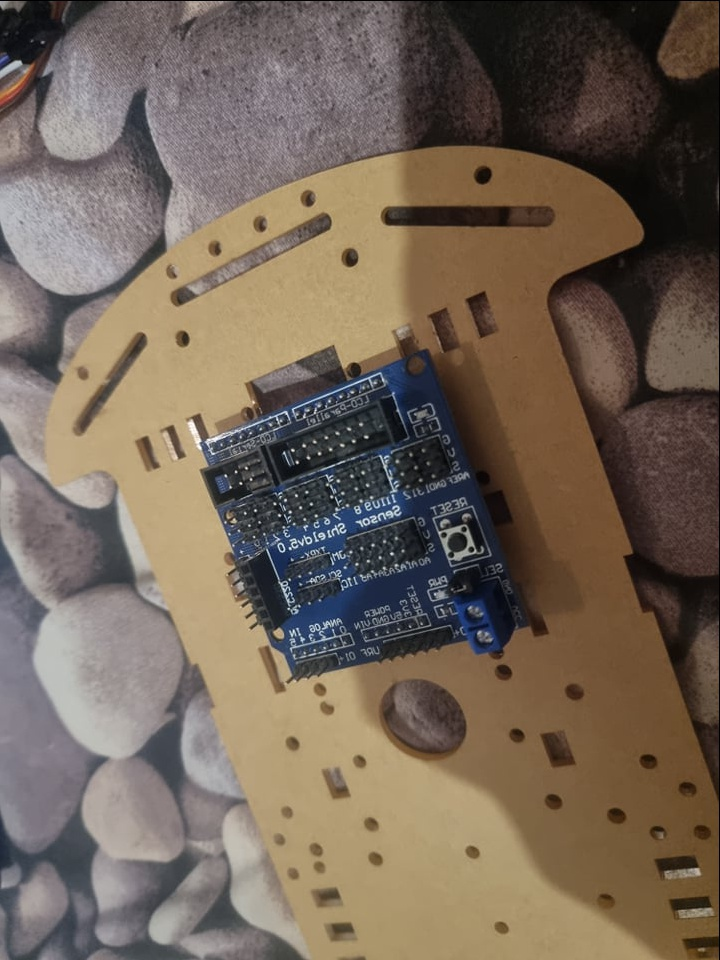5V EXPANSION: (198, 344, 528, 685)
